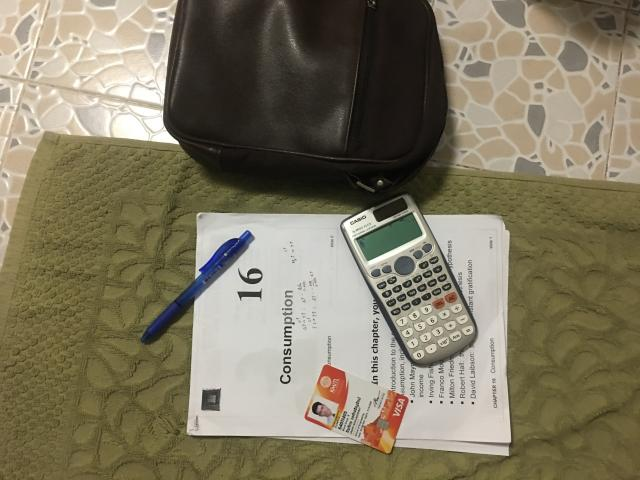Pen: (141, 230, 252, 342)
paper: (188, 212, 511, 455)
